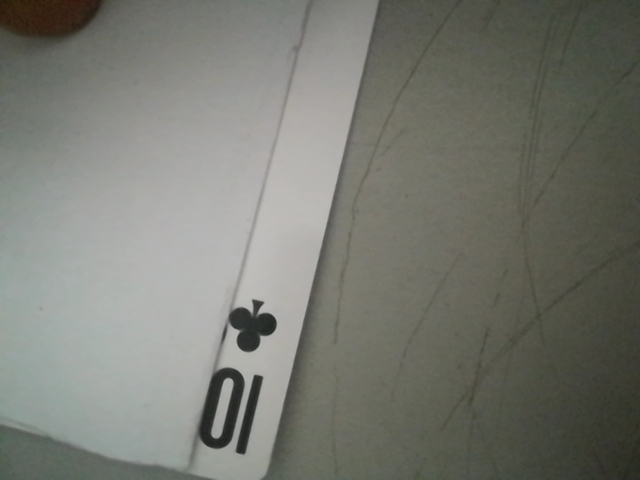mh 10: (183, 288, 295, 476)
